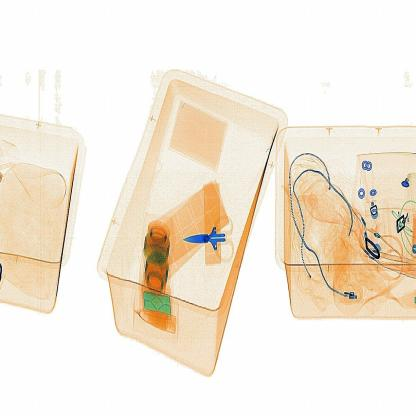gun: (181, 212, 242, 269)
